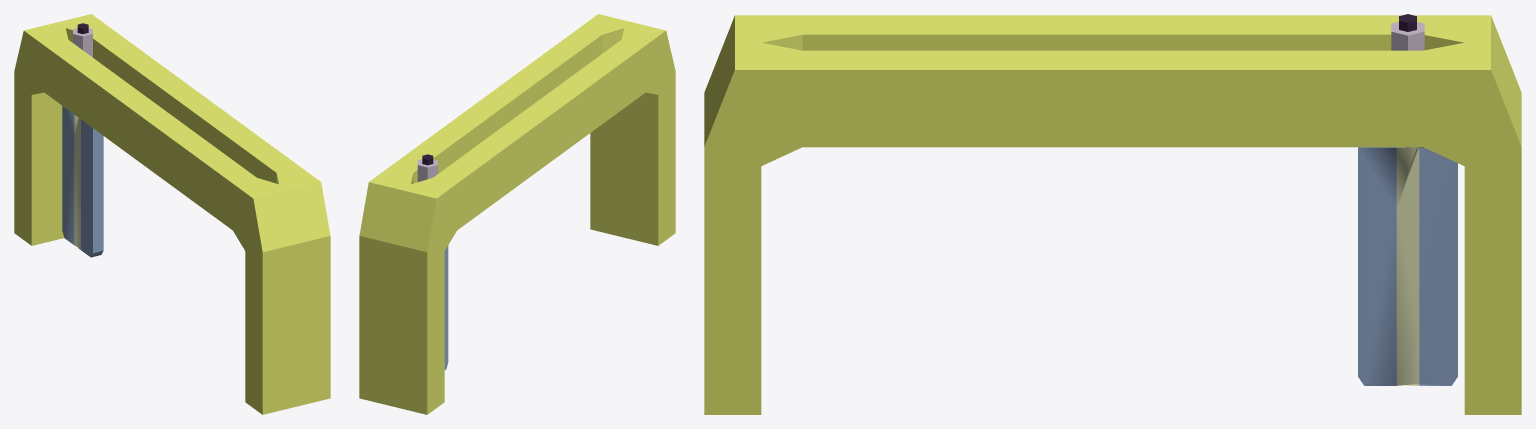
File: Obstaculo Lateral.fbx
3 views of the same model, side by side, from view 1: azimuth 30°, elevation 25°; view 2: azimuth 150°, elevation 25°; view 3: azimuth 270°, elevation 25° (orthographic). The views are drawn at different scales.
Parts seen in each view (by area): view 1: Box029, Cylinder012; view 2: Box029, Cylinder012; view 3: Box029, Cylinder012.
Boxes of the visible parts, x1=… form: Box029: x1=14, y1=14, x2=330, y2=414; Cylinder012: x1=62, y1=23, x2=103, y2=257; Box029: x1=359, y1=14, x2=675, y2=414; Cylinder012: x1=417, y1=154, x2=448, y2=369; Box029: x1=704, y1=15, x2=1521, y2=414; Cylinder012: x1=1358, y1=14, x2=1457, y2=385.
Size of the model in its own units: 6.89 by 21.77 by 43.67.
